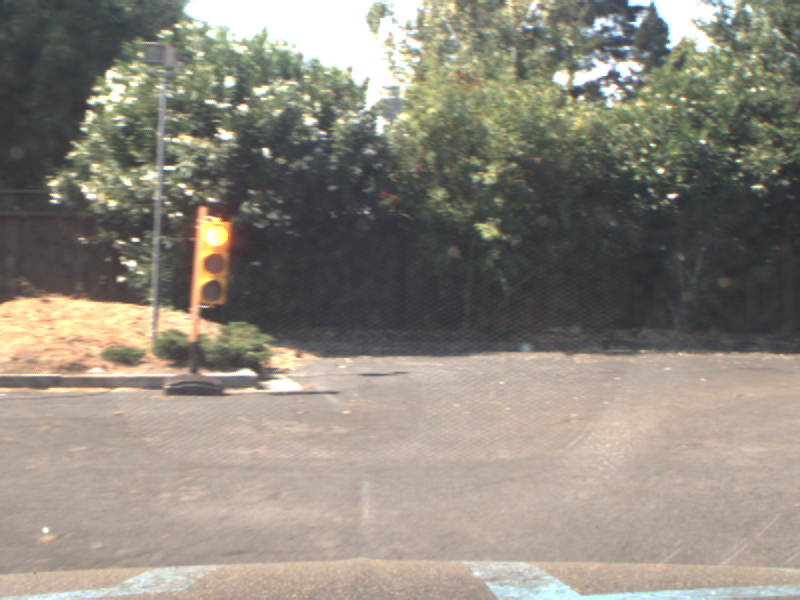red: (191, 208, 229, 307)
